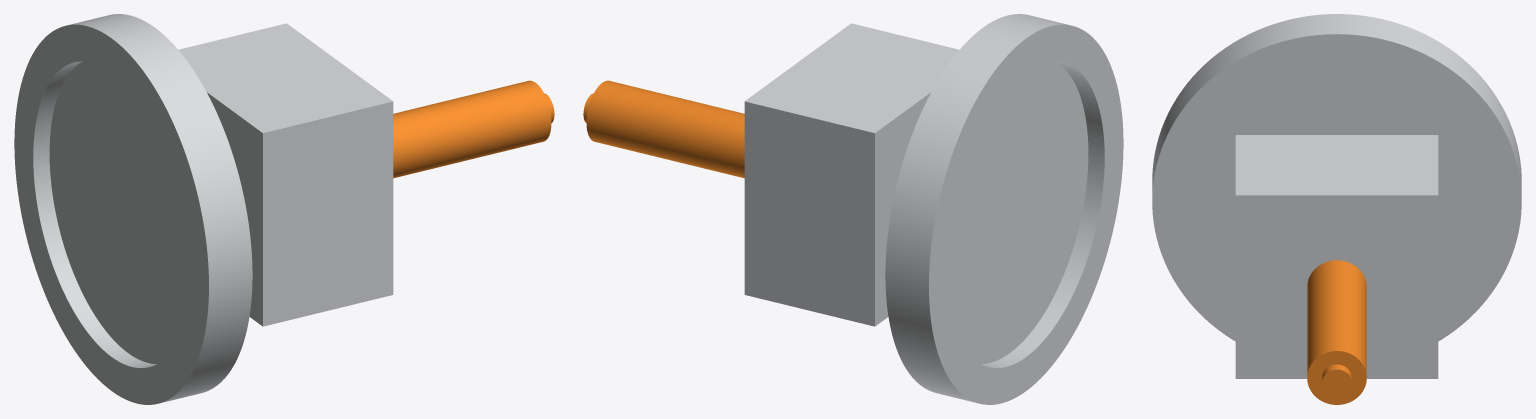
File: tool_sprayer.glb
3 renders of one model, left to right at view 1: azimuth 30°, elevation 25°; view 2: azimuth 150°, elevation 25°; view 3: azimuth 270°, elevation 25°, orthographic. The views are drawn at different scales.
Parts seen in each view (by area): view 1: tool changer, tool side (printed), spray head, nozzle; view 2: tool changer, tool side (printed), spray head, nozzle; view 3: tool changer, tool side (printed), spray head, nozzle.
Boxes of the visible parts, box(x1,y1,x2,y2) form: tool changer, tool side (printed): box(14, 14, 252, 404); spray head: box(178, 23, 393, 326); nozzle: box(393, 80, 554, 178); tool changer, tool side (printed): box(885, 14, 1123, 404); spray head: box(744, 23, 959, 326); nozzle: box(583, 80, 744, 178); tool changer, tool side (printed): box(1152, 14, 1521, 341); spray head: box(1235, 135, 1438, 378); nozzle: box(1307, 260, 1366, 404).
Size of the model in its own units: 0.08 by 0.062 by 0.062.
